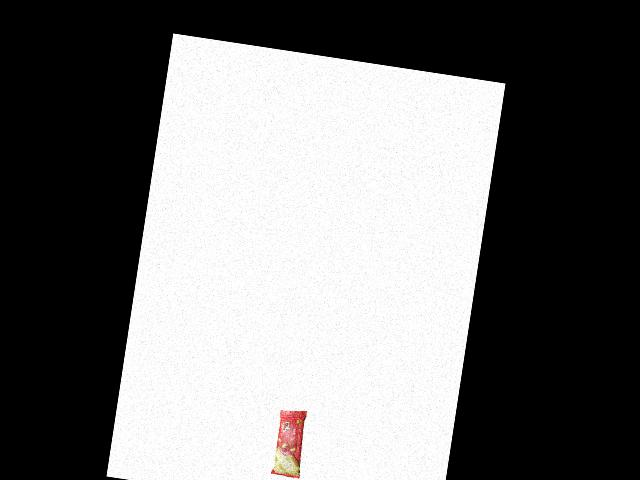chocolate: (269, 402, 314, 479)
